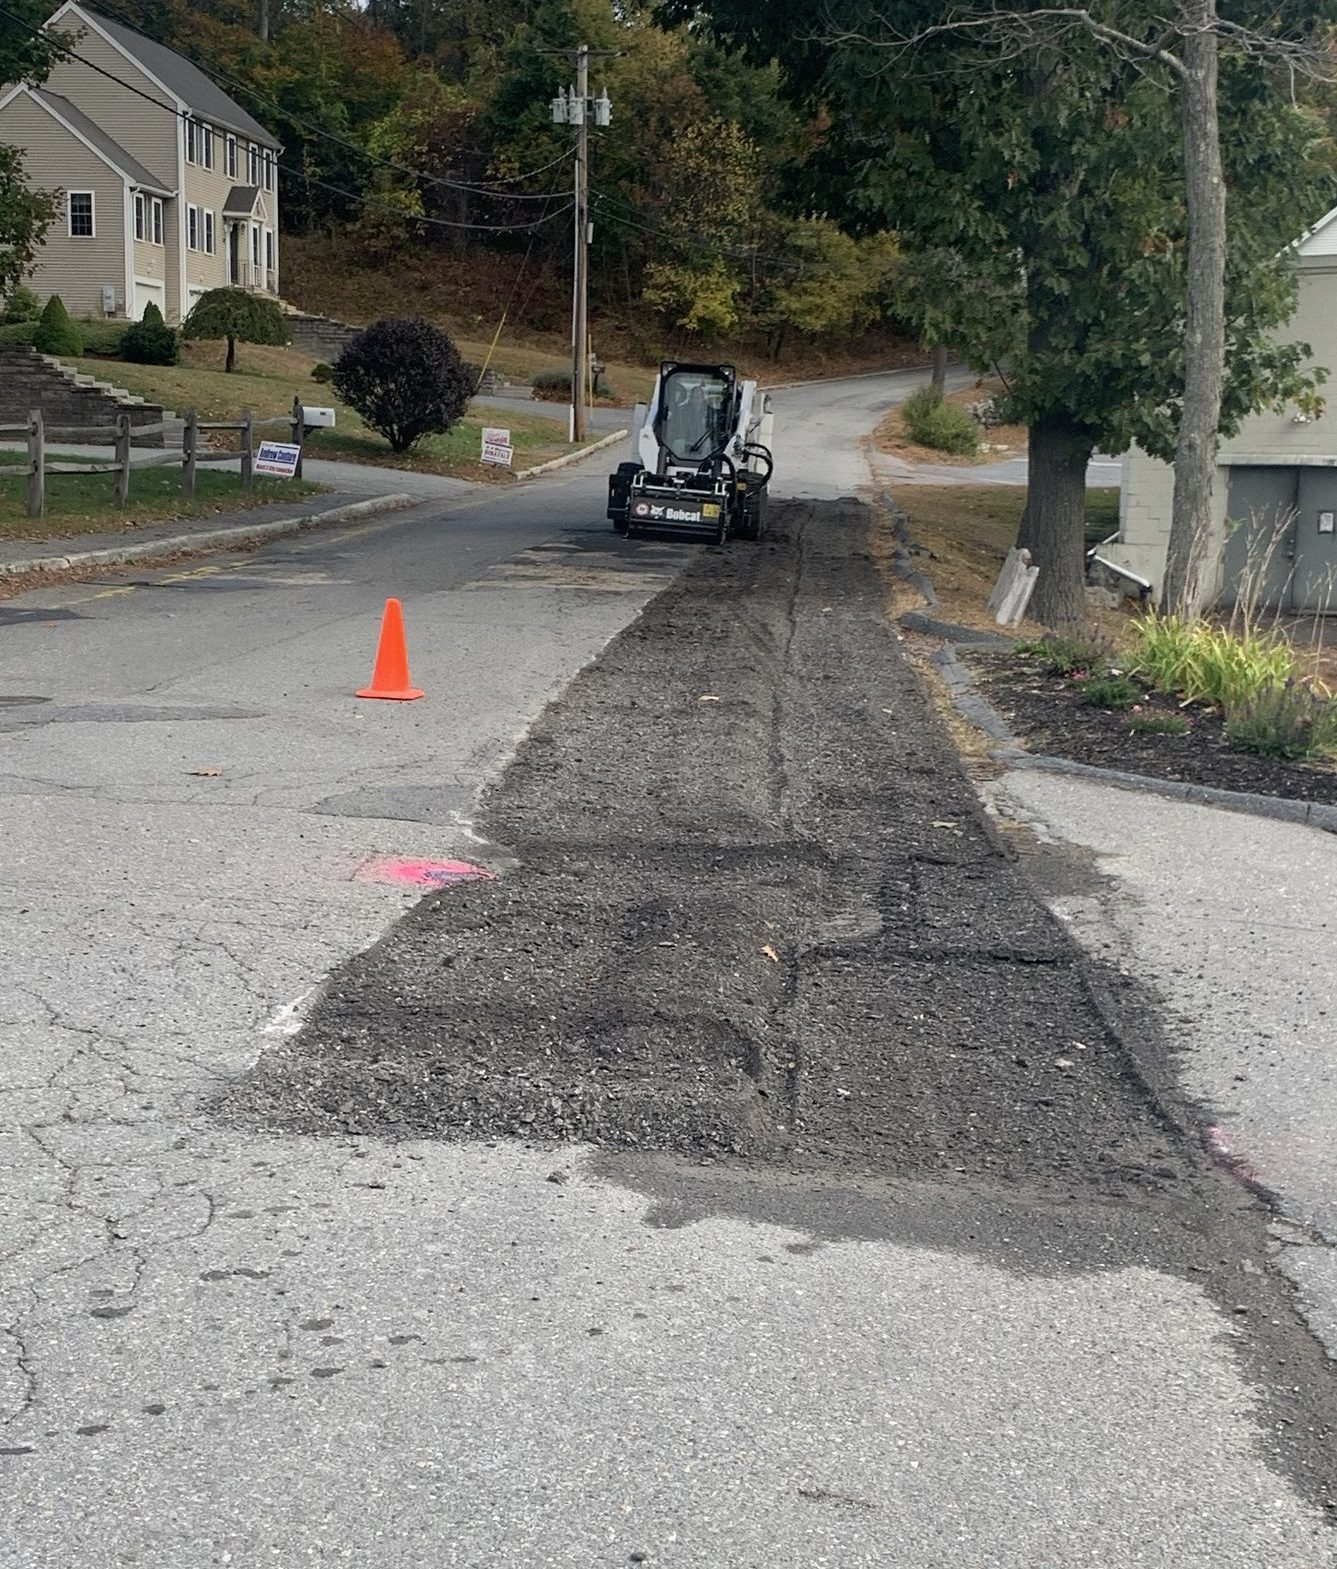pothole: (516, 936, 688, 1090)
